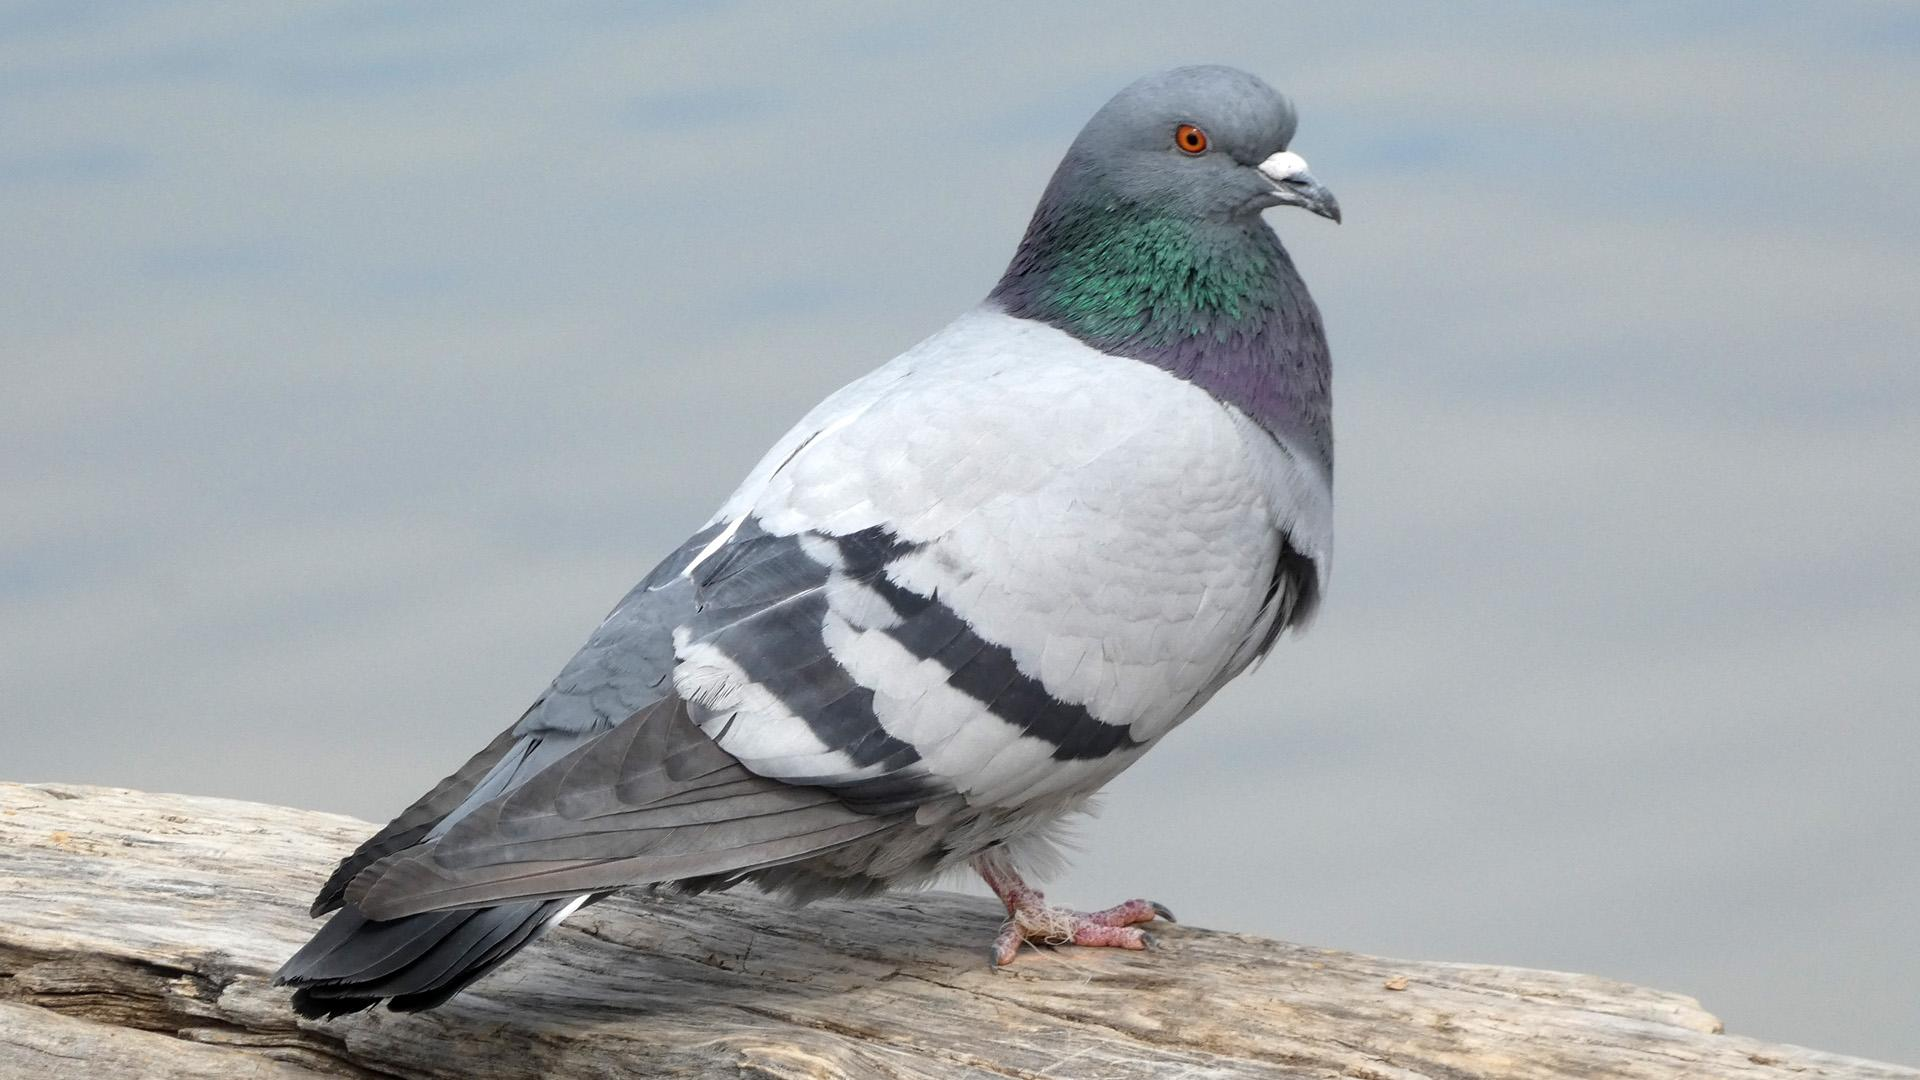Flying Rat: (305, 58, 1466, 997)
